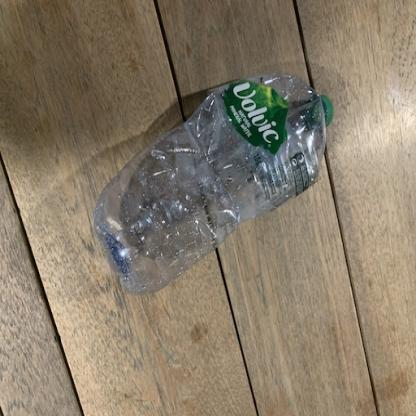trash: (88, 76, 336, 300)
